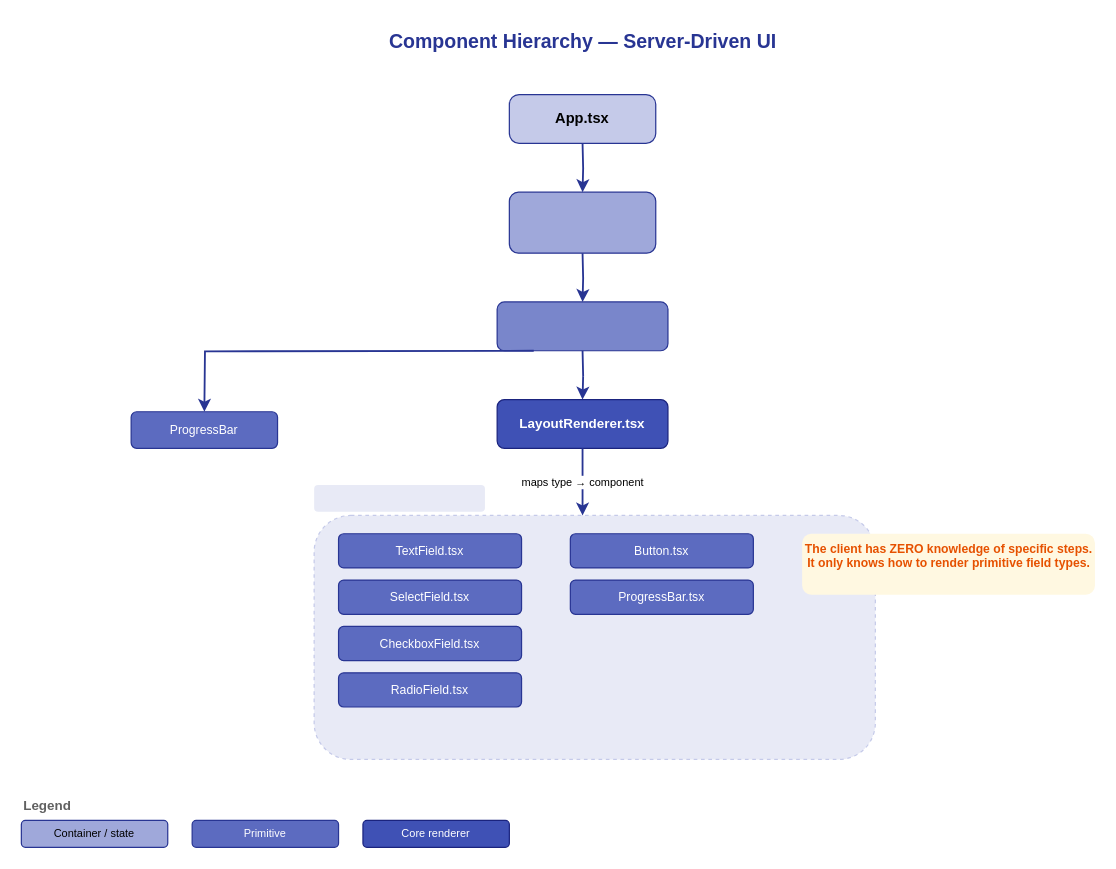
Some shapes in this 1116 by 869 pixel diagram are drawn without their labels. The shapes that lost their labels are listed below. From the top down, each one's centre as x and y in pixels, then its label:
At [582,222]: "WizardProvider (context / state)".
At [582,326]: "Wizard (in App.tsx) fetches schema, manages index".
At [399,497]: "Primitives (reusable)".
